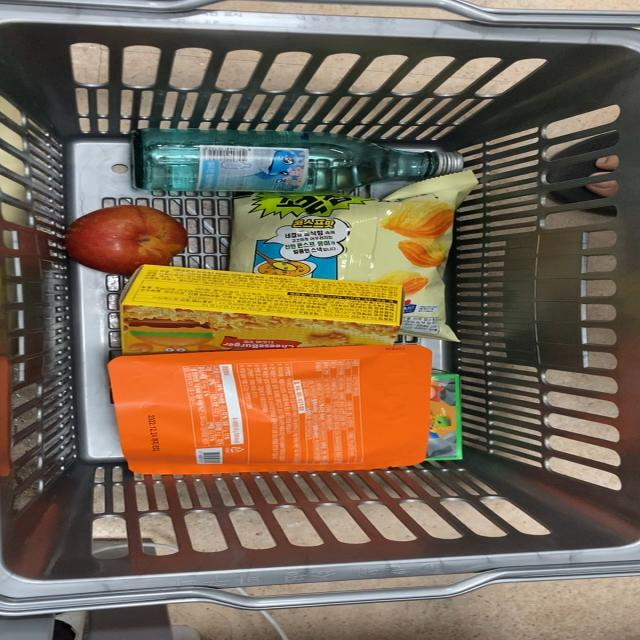cheesebagel: (98, 348, 440, 468)
ggobukchip: (221, 196, 472, 279)
jinro: (121, 124, 470, 200)
minicrab: (110, 264, 404, 348)
plum: (58, 203, 198, 264)
